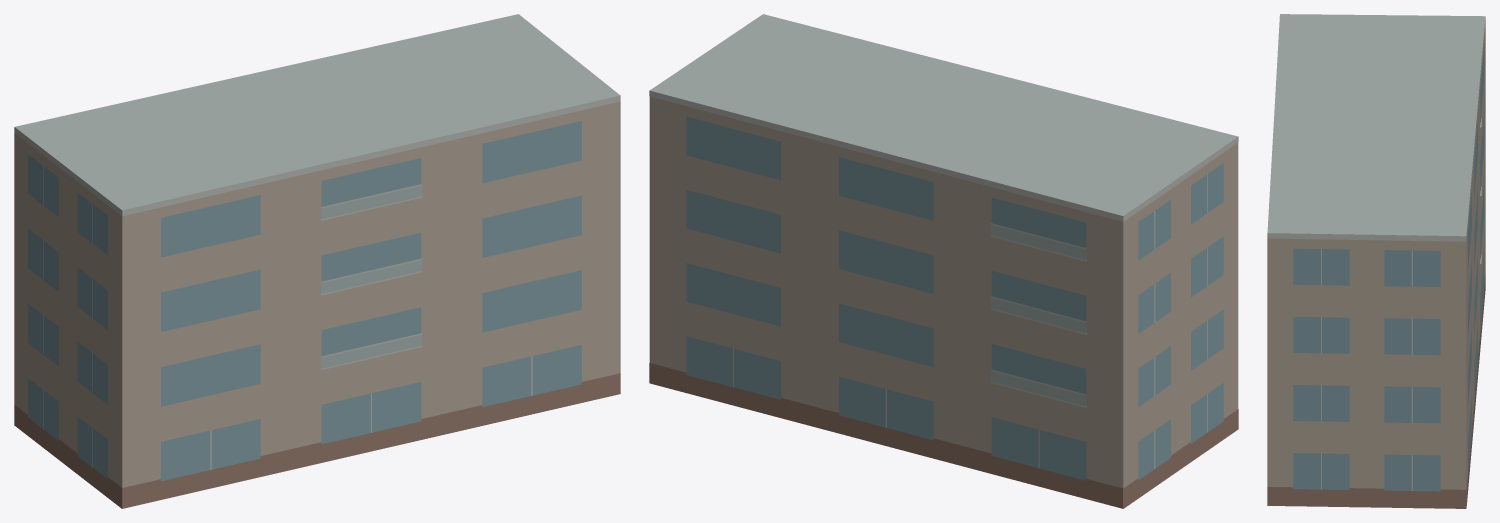
File: survey-upis-32654475.glb
The picture shows the model from 3 angles, left to right: view 1: azimuth 30°, elevation 25°; view 2: azimuth 150°, elevation 25°; view 3: azimuth 270°, elevation 25°; orthographic projection. The views are drawn at different scales.
Parts seen in each view (by area): view 1: survey-upis-32654475.tmp; view 2: survey-upis-32654475.tmp; view 3: survey-upis-32654475.tmp.
Boxes of the visible parts, x1,y1,x2,y2 form: survey-upis-32654475.tmp: (14, 14, 620, 508); survey-upis-32654475.tmp: (649, 14, 1238, 508); survey-upis-32654475.tmp: (1267, 14, 1485, 508).
Bounding box in the file's own units: 21.33 × 12.2 × 8.85.
